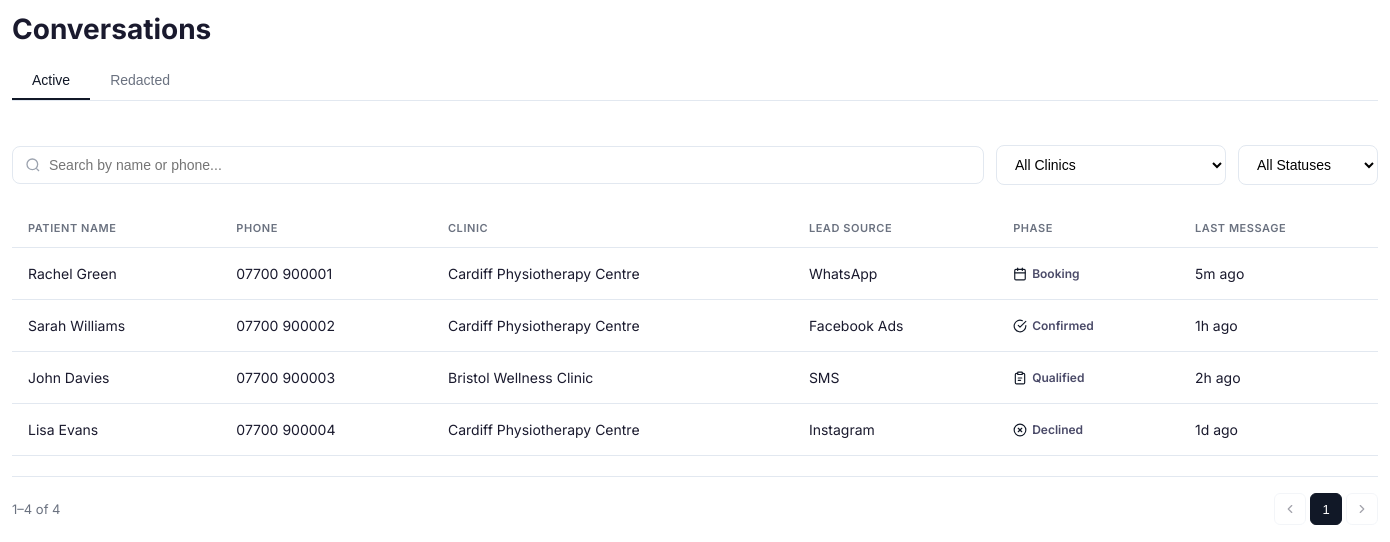
it: ConversationList › filters by search input
Check: the text "Rachel Green" is shown, box [28,265,117,282]
In the field with placeholder "Search by name or phone...": (498, 165) [12,146,984,184], type "Sarah"
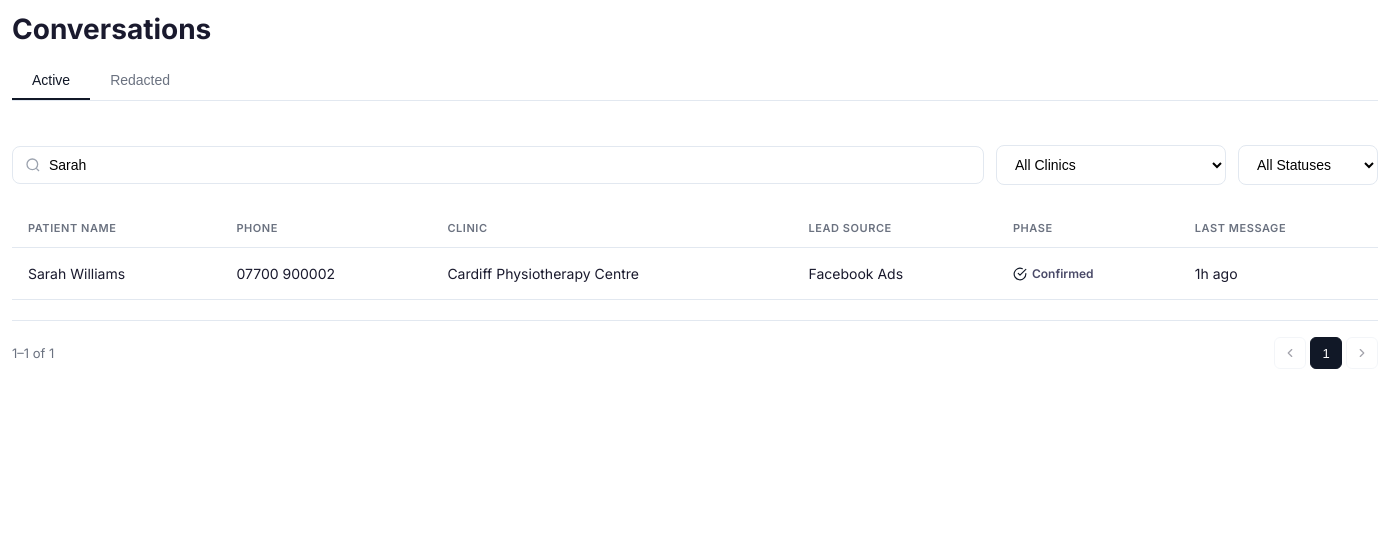
Check: the text "Sarah Williams" is shown, box [28,265,125,282]
Check: the text "Rachel Green" is gone
